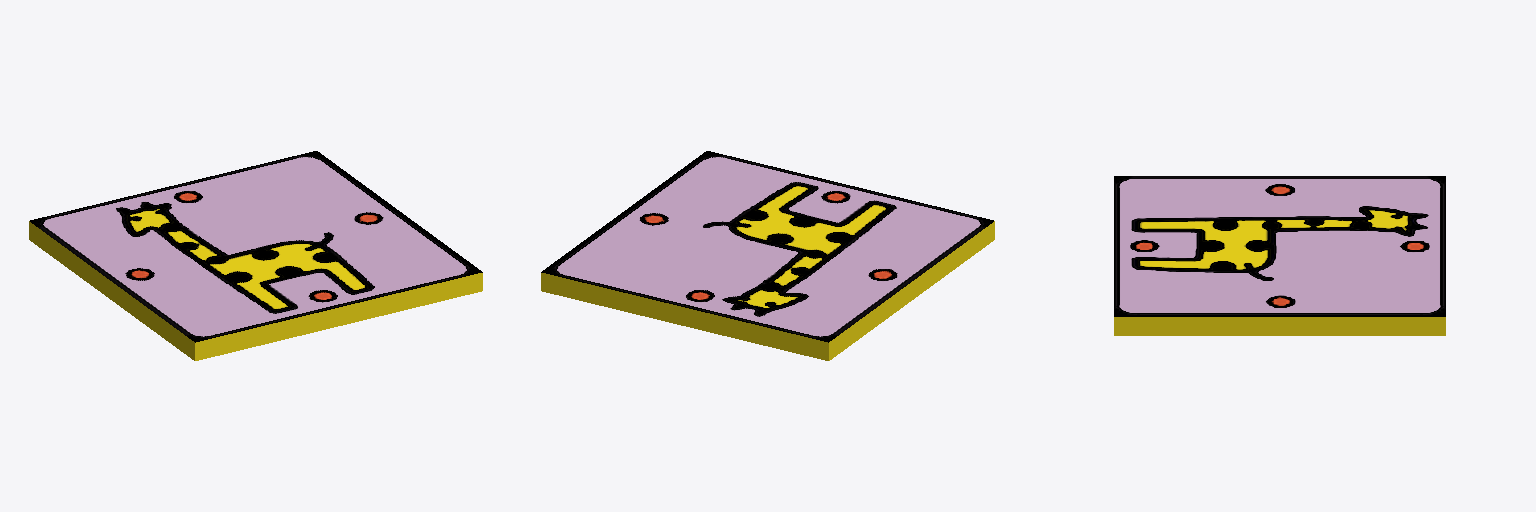
3 renders of one model, left to right at view 1: azimuth 30°, elevation 25°; view 2: azimuth 150°, elevation 25°; view 3: azimuth 270°, elevation 25°, orthographic.
Visible parts, largest first — view 1: Giraffe; view 2: Giraffe; view 3: Giraffe.
Boxes of the visible parts, x1,y1,x2,y2 form: Giraffe: [29, 151, 482, 360]; Giraffe: [541, 151, 994, 360]; Giraffe: [1114, 176, 1445, 335].
Size of the model in its own units: 0.8 by 0.05 by 0.8.
Materials: 1 (1 with a texture image).